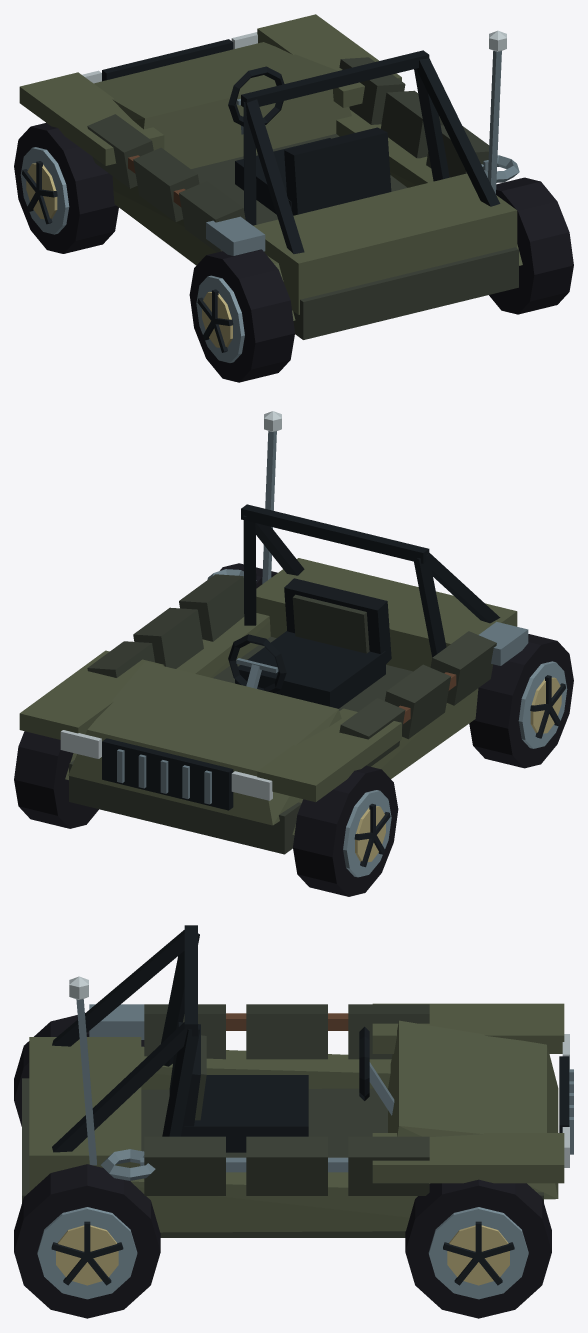
The model's file is kart.glb.
The picture shows the model from 3 angles, top to bottom: view 1: azimuth 30°, elevation 25°; view 2: azimuth 150°, elevation 25°; view 3: azimuth 270°, elevation 25°; orthographic projection. The views are drawn at different scales.
Parts seen in each view (by area): view 1: identity-jeep-jeep-offroad-frame, identity-jeep-motif-armor, wheel-rear-left, wheel-front-left, identity-jeep-driver-cockpit, wheel-rear-right, identity-jeep-motif-tools, identity-jeep-motif-antenna; view 2: identity-jeep-jeep-offroad-frame, identity-jeep-motif-armor, identity-jeep-driver-cockpit, wheel-front-left, wheel-rear-left, wheel-front-right, identity-jeep-motif-tools, identity-jeep-motif-antenna; view 3: identity-jeep-jeep-offroad-frame, identity-jeep-motif-armor, wheel-rear-right, wheel-front-right, identity-jeep-driver-cockpit, identity-jeep-motif-tools, identity-jeep-motif-antenna, wheel-rear-left.
Boxes of the visible parts, box(x1,y1,x2,y2) form: identity-jeep-jeep-offroad-frame: box(19, 14, 522, 339); identity-jeep-motif-armor: box(87, 57, 489, 252); wheel-rear-left: box(189, 249, 294, 382); wheel-front-left: box(14, 123, 118, 253); identity-jeep-driver-cockpit: box(228, 66, 391, 215); wheel-rear-right: box(489, 177, 573, 314); identity-jeep-motif-tools: box(128, 155, 519, 255); identity-jeep-motif-antenna: box(488, 30, 506, 193); identity-jeep-jeep-offroad-frame: box(19, 504, 517, 854); identity-jeep-motif-armor: box(87, 574, 496, 766); identity-jeep-driver-cockpit: box(228, 578, 391, 708); wheel-front-left: box(293, 765, 398, 896); wheel-rear-left: box(469, 634, 573, 768); wheel-front-right: box(14, 731, 98, 828); identity-jeep-motif-tools: box(207, 569, 528, 723); identity-jeep-motif-antenna: box(262, 411, 281, 583); identity-jeep-jeep-offroad-frame: box(22, 925, 573, 1237); identity-jeep-motif-armor: box(144, 1004, 429, 1195); wheel-rear-right: box(14, 1164, 160, 1318); wheel-front-right: box(405, 1179, 551, 1318); identity-jeep-driver-cockpit: box(169, 1022, 394, 1152); identity-jeep-motif-tools: box(89, 1004, 348, 1180); identity-jeep-motif-antenna: box(69, 976, 96, 1165); wheel-rear-left: box(14, 1015, 144, 1126).
Bounding box in the file's own units: 2.13 × 1.72 × 2.75.
